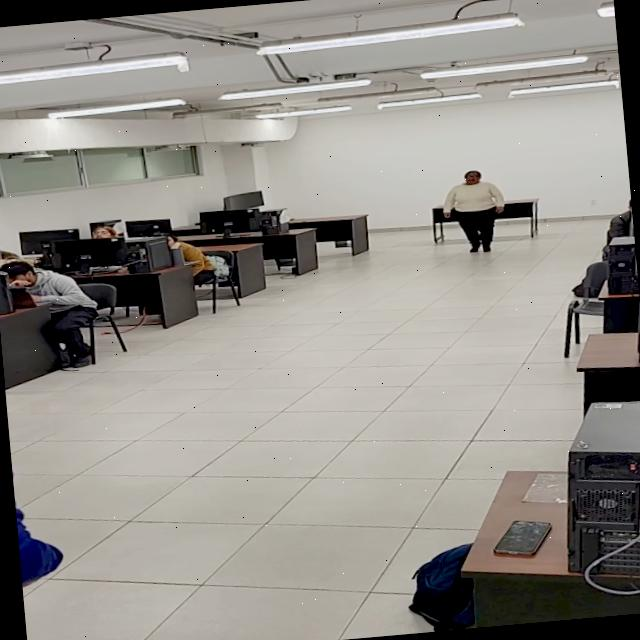Persona: (422, 166, 511, 262)
